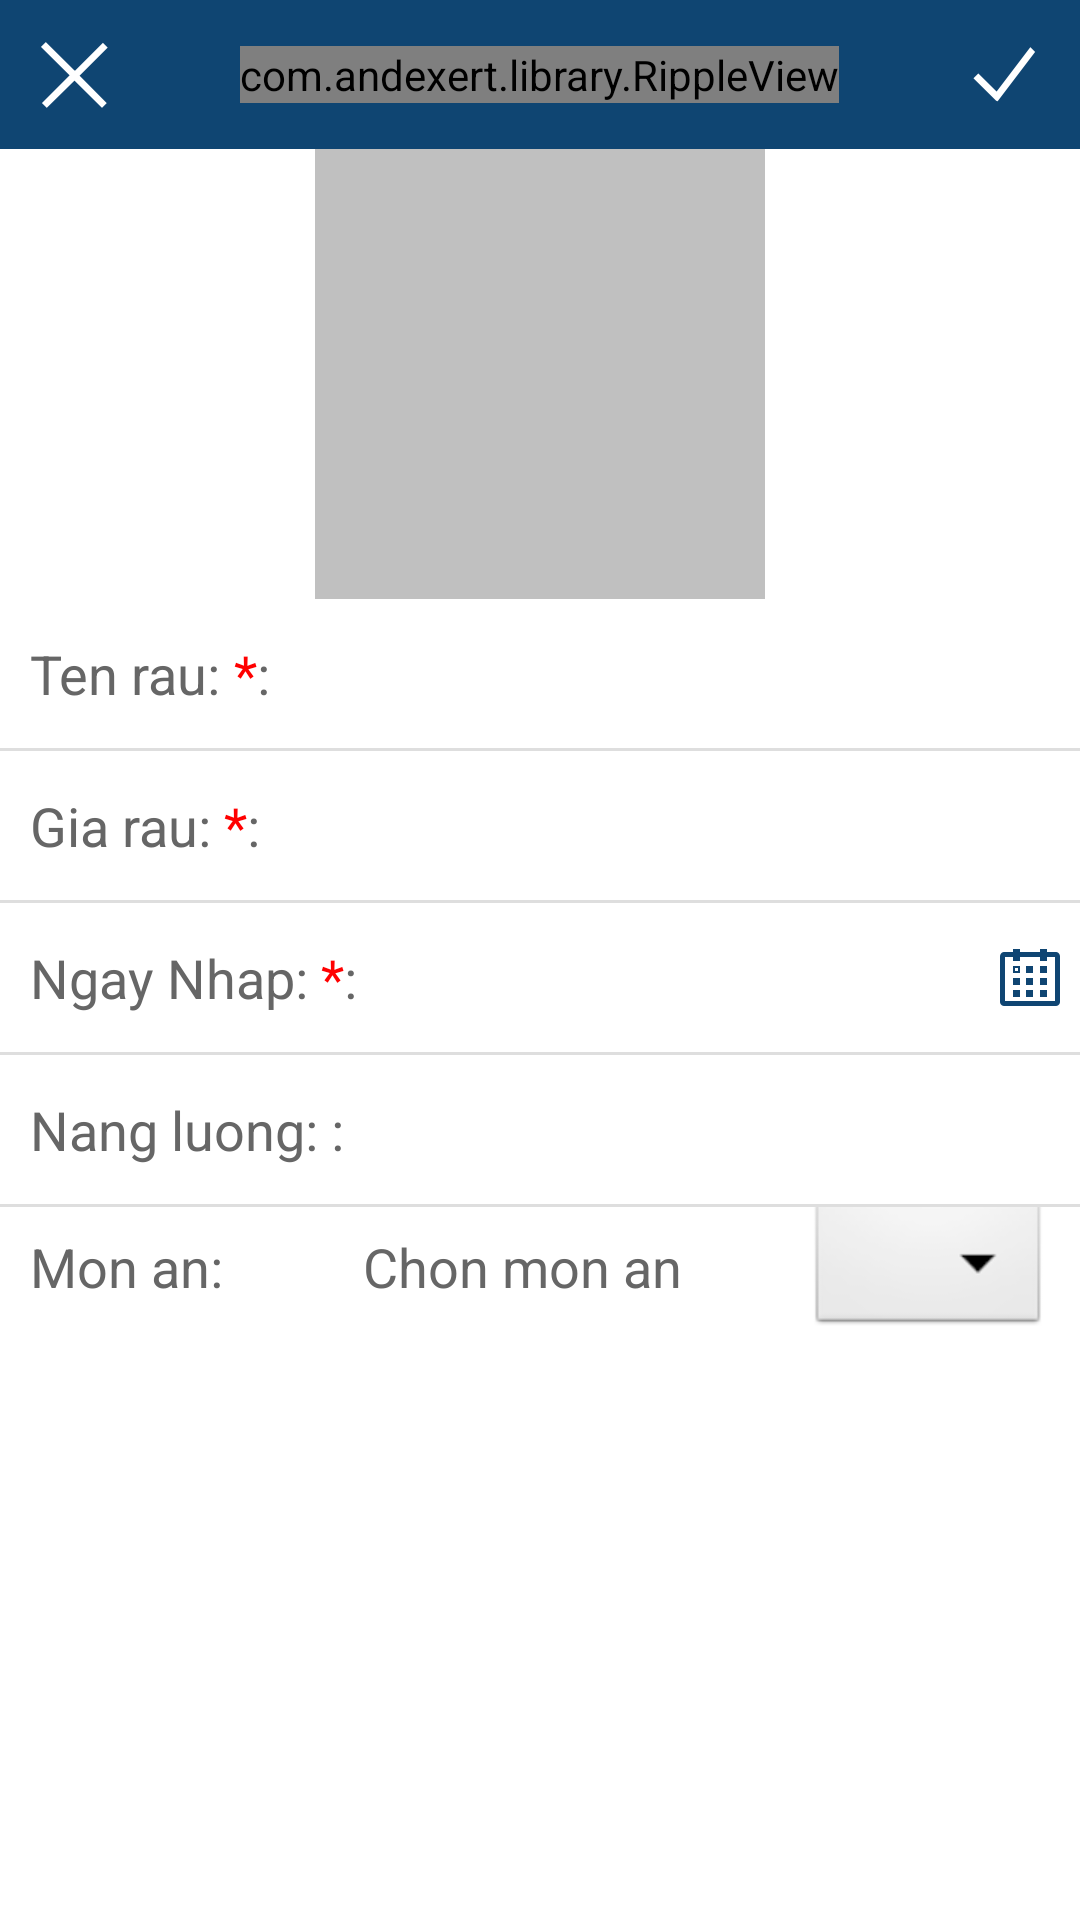

Where to tap for icons on this 1080 x 1920 app screen, as [x,y]:
done: [1004,74]
